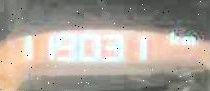0: (77, 32, 98, 59)
1: (137, 32, 150, 61), (22, 32, 32, 61), (47, 33, 53, 58)
3: (100, 32, 122, 61)
9: (54, 32, 75, 59)
X: (167, 29, 180, 45), (180, 33, 195, 46)
